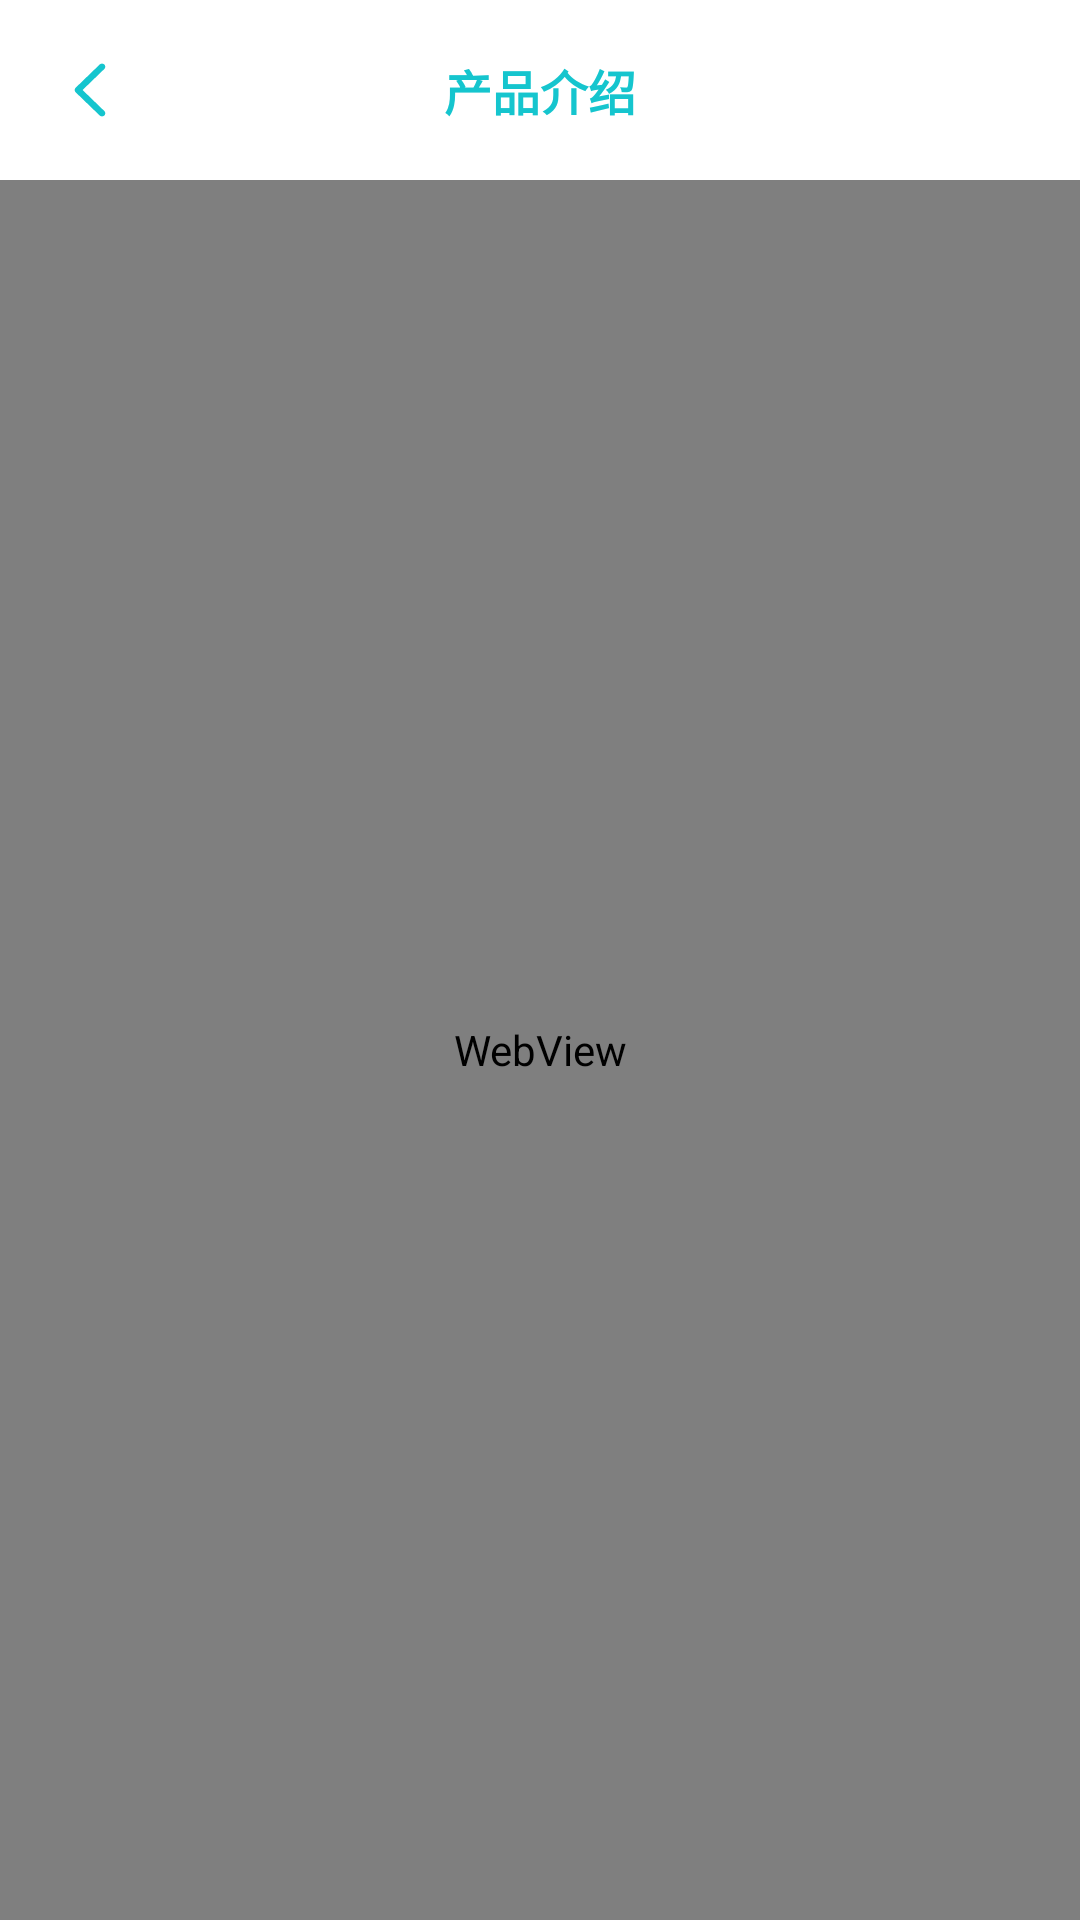

Named icons in this screenshot (1080w x 1920h) and their bounding boxes, (x1, y1, x2, y2):
back: (74, 63, 106, 117)
